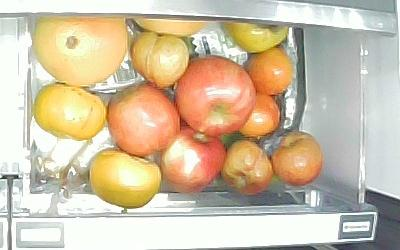apple: (175, 55, 257, 136), (105, 83, 182, 155), (157, 127, 228, 193)
grapefruit: (32, 13, 130, 88), (131, 18, 209, 37)
persimmon: (89, 147, 162, 209), (33, 83, 107, 141), (222, 20, 289, 54)
prune: (129, 30, 190, 88), (220, 139, 273, 197), (271, 130, 323, 186), (243, 47, 293, 95), (236, 92, 282, 139)
